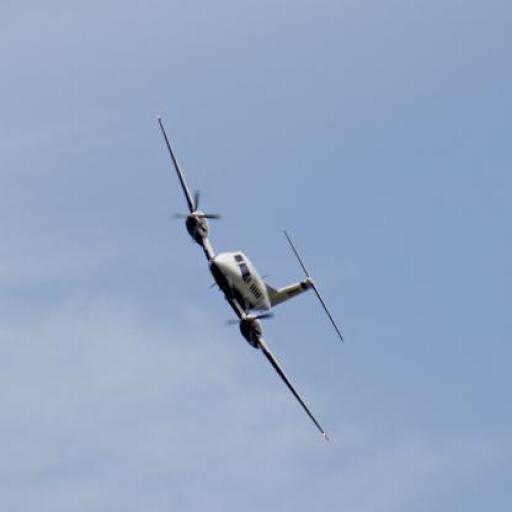aircraft: (149, 108, 351, 450)
